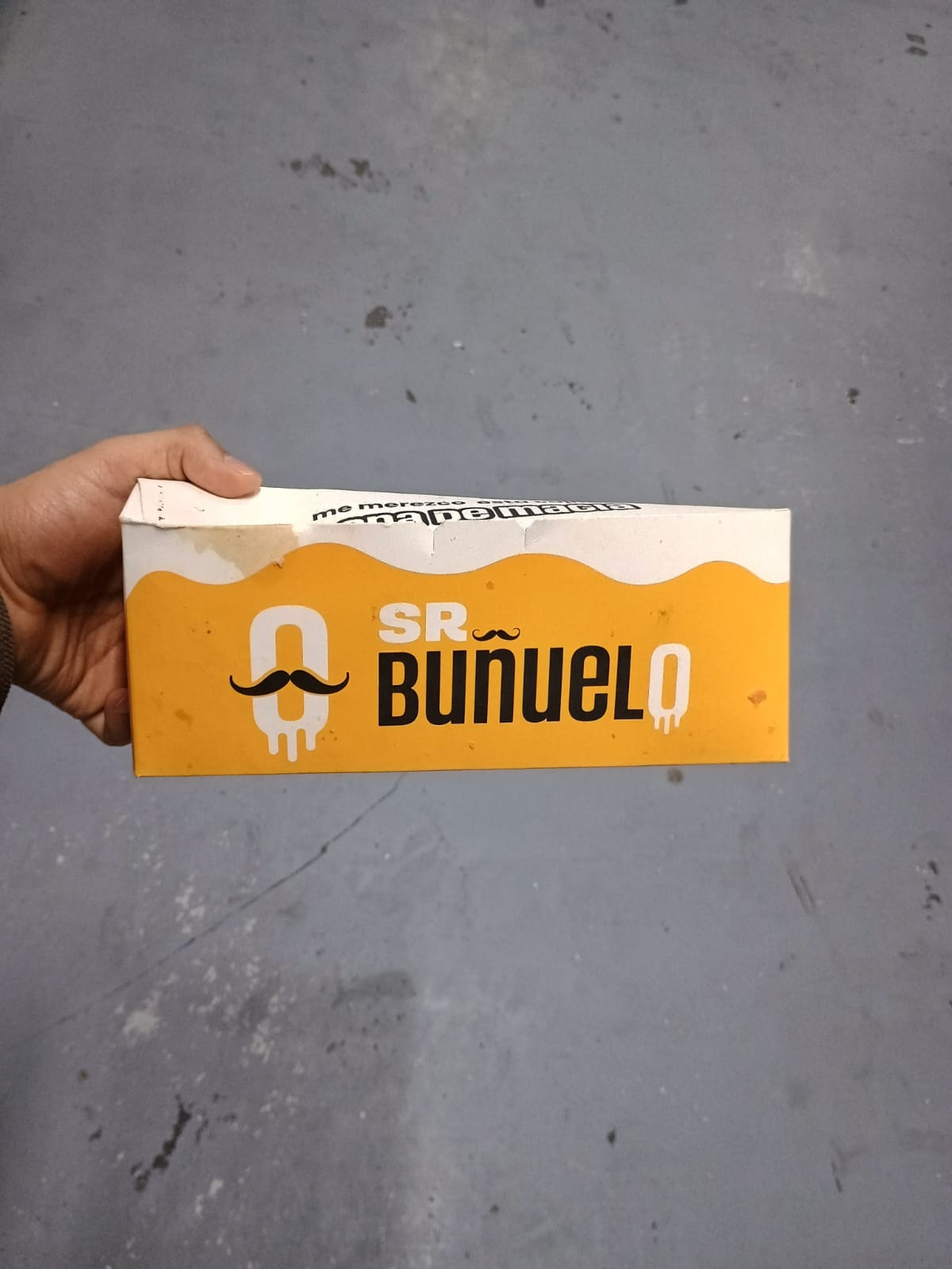Carton: (119, 478, 790, 773)
